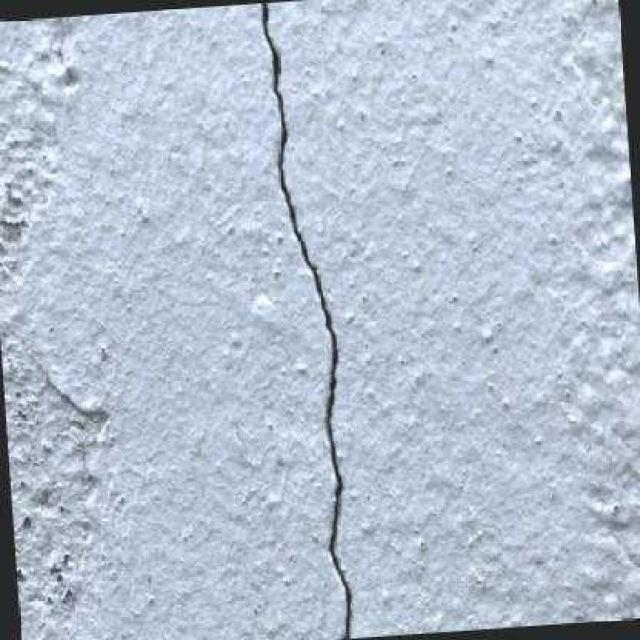D00: (260, 3, 352, 639)
